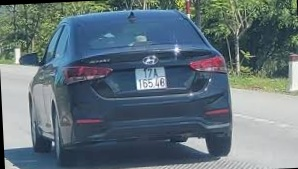Bien-so: (135, 67, 166, 87)
